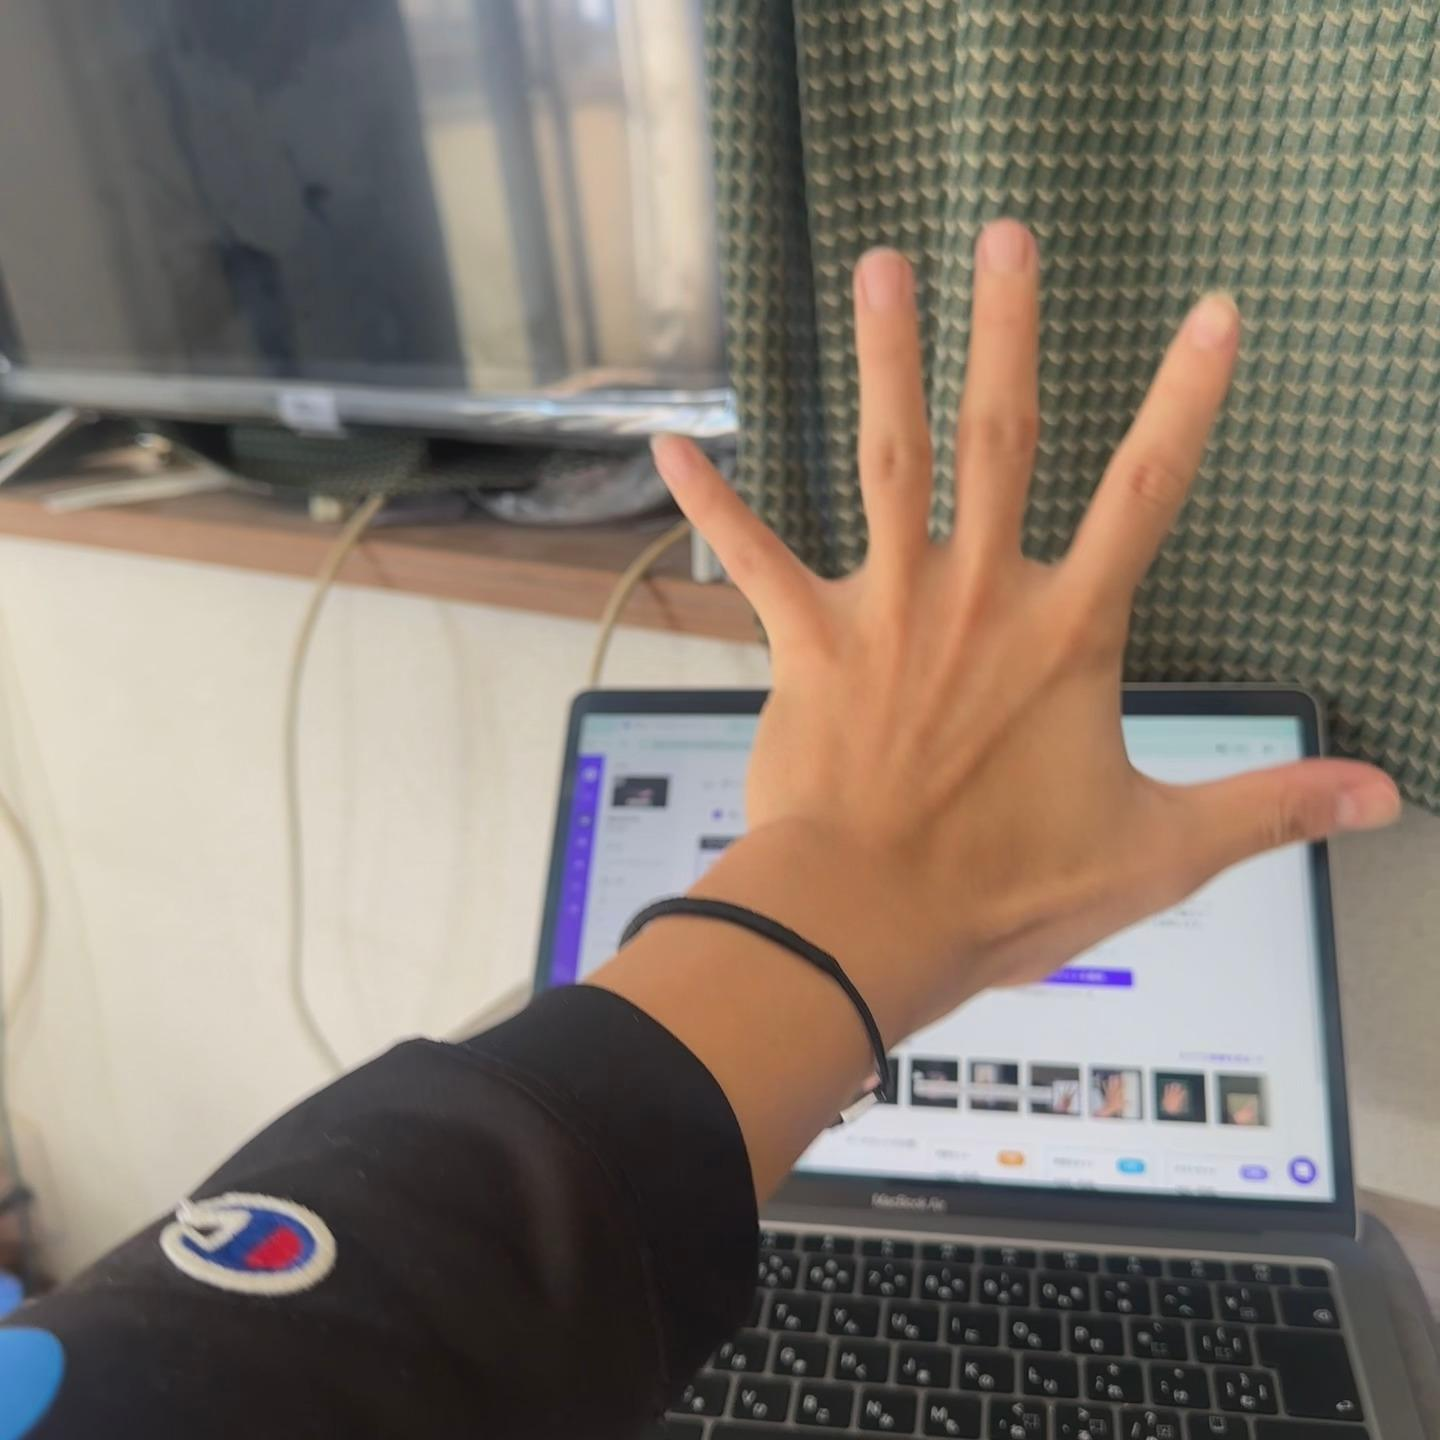without_gloves: (591, 0, 1382, 1035)
